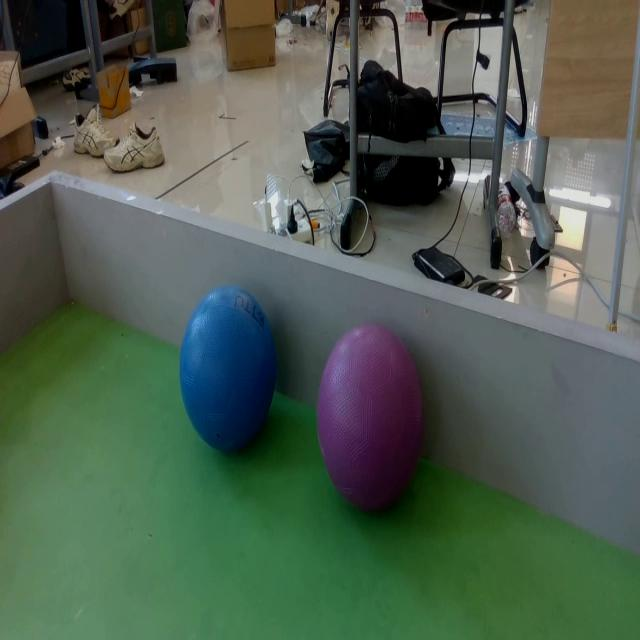blue: (180, 286, 275, 450)
invalid: (316, 325, 421, 508)
